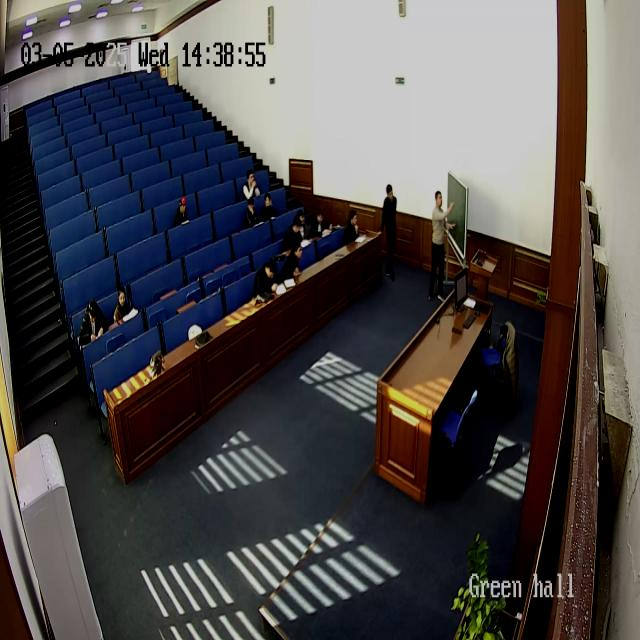person: (428, 191, 456, 301), (379, 182, 398, 278), (78, 298, 108, 346), (254, 258, 278, 298), (282, 212, 306, 252), (280, 241, 302, 283), (112, 286, 135, 324), (310, 207, 331, 238), (343, 210, 361, 243), (242, 170, 260, 202), (174, 196, 190, 227), (261, 193, 277, 222), (245, 200, 259, 229)
